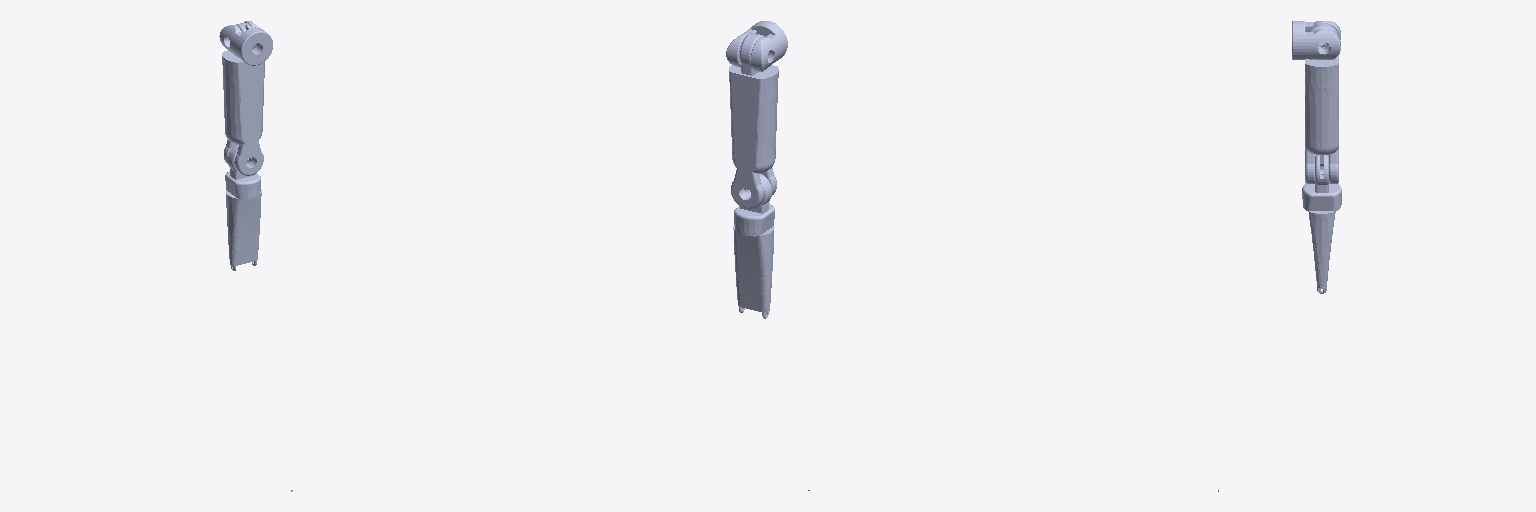
The robot description file, URDF, robot "pluto":
<?xml version="1.0" ?>
<!-- =================================================================================== -->
<!-- |    This document was autogenerated by xacro from pluto2.xacro                   | -->
<!-- |    EDITING THIS FILE BY HAND IS NOT RECOMMENDED                                 | -->
<!-- =================================================================================== -->
<robot name="pluto">
  <link name="base_footprint">
    <inertial>
      <mass value="10"/>
      <inertia ixx="1.6666666666666667e-06" ixy="0.0" ixz="0.0" iyy="1.6666666666666667e-06" iyz="0.0" izz="1.6666666666666667e-06"/>
    </inertial>
    <visual>
      <origin rpy="0 0 0" xyz="0 0 0"/>
      <geometry>
        <box size="0.001 0.001 0.001"/>
      </geometry>
    </visual>
  </link>
  <link name="base_link">
    <inertial>
      <mass value="50"/>
      <inertia ixx="2.1505333333333336" ixy="0.0" ixz="0.0" iyy="2.1505333333333336" iyz="0.0" izz="2.1505333333333336"/>
    </inertial>
    <visual>
      <origin rpy="0 0 0" xyz="-0.015 -0.00275 0"/>
      <geometry>
        <!--box size="${base_length} ${base_width} ${base_height}" /-->
        <mesh filename="package://pluto/models/Chassis.dae" scale="1 1 1"/>
      </geometry>
    </visual>
    <collision>
      <origin rpy="0 0 0" xyz="-0.015 -0.00275 0"/>
      <geometry>
        <!--box size="${base_length} ${base_width} ${base_height}"/-->
        <mesh filename="package://pluto/models/Chassis.dae" scale="1 1 1"/>
      </geometry>
    </collision>
  </link>
  <joint name="base_link_joint" type="fixed">
    <origin rpy="0 0 0" xyz="0 0 0"/>
    <parent link="base_footprint"/>
    <child link="base_link"/>
  </joint>
  <link name="torso">
    <inertial>
      <mass value="20"/>
      <inertia ixx="0.4010744666666667" ixy="0.0" ixz="0.0" iyy="0.45591306666666664" iyz="0.0" izz="0.16021473333333336"/>
    </inertial>
    <visual>
      <origin rpy="0 0 0" xyz="0 0 0.32"/>
      <geometry>
        <mesh filename="package://pluto/models/Torso.dae" scale="1 1 1"/>
      </geometry>
    </visual>
    <collision>
      <origin rpy="0 0 0" xyz="0 0 0.32"/>
      <geometry>
        <mesh filename="package://pluto/models/Torso.dae" scale="1 1 1"/>
      </geometry>
    </collision>
  </link>
  <joint name="torso_joint" type="revolute">
    <origin rpy="0 0 0" xyz="0 0 0"/>
    <axis rpy="0 0 0" xyz="0 0 1"/>
    <parent link="base_link"/>
    <child link="torso"/>
    <limit effort="1.0" lower="-1.57079" upper="1.57079" velocity="1.0"/>
  </joint>
  <link name="left_shoulder">
    <visual>
      <origin rpy="3.141592653589793 0 0" xyz="0 0 0"/>
      <geometry>
        <mesh filename="package://pluto/models/Shoulder.dae" scale="1 1 1"/>
      </geometry>
    </visual>
    <collision>
      <origin rpy="3.141592653589793 0 0" xyz="0 0 0"/>
      <geometry>
        <mesh filename="package://pluto/models/Shoulder.dae" scale="1 1 1"/>
      </geometry>
      <surface>
        <friction>
          <ode>
            <mu>0.01</mu>
            <mu2>0.01</mu2>
          </ode>
        </friction>
      </surface>
    </collision>
    <inertial>
      <mass value="3"/>
      <inertia ixx="0.0030645100000000008" ixy="0" ixz="0" iyy="0.0030645100000000008" iyz="0" izz="0.0021774150000000003"/>
    </inertial>
  </link>
  <joint name="left_shoulder_joint" type="revolute">
    <axis rpy="0 0 0" xyz="0 1 0"/>
    <parent link="torso"/>
    <child link="left_shoulder"/>
    <origin rpy="0 0 0" xyz="0 0.055 0.372"/>
    <limit effort="30.0" lower="-3.14159" upper="0" velocity="1.0"/>
  </joint>
  <link name="left_upper_arm_bottom">
    <visual>
      <origin rpy="0 0 3.141592653589793" xyz="0 0 0"/>
      <geometry>
        <mesh filename="package://pluto/models/UpperArmBottom.dae" scale="1 1 1"/>
      </geometry>
    </visual>
    <collision>
      <origin rpy="3.141592653589793 0 0" xyz="0 0 0"/>
      <geometry>
        <mesh filename="package://pluto/models/UpperArmBottom.dae" scale="1 1 1"/>
      </geometry>
      <surface>
        <friction>
          <ode>
            <mu>0.01</mu>
            <mu2>0.01</mu2>
          </ode>
        </friction>
      </surface>
    </collision>
    <inertial>
      <mass value="0.5"/>
      <inertia ixx="0.002814174479166667" ixy="0" ixz="0" iyy="0.002814174479166667" iyz="0" izz="0.000252015625"/>
    </inertial>
  </link>
  <joint name="left_upper_arm_bottom_joint" type="revolute">
    <axis rpy="0 0 0" xyz="1 0 0"/>
    <parent link="left_shoulder"/>
    <child link="left_upper_arm_bottom"/>
    <origin rpy="0 0 0" xyz="0 0.0225 0"/>
    <limit effort="30.0" lower="0" upper="3.14159" velocity="1.0"/>
  </joint>
  <link name="left_upper_arm_top">
    <visual>
      <origin rpy="0 0 3.141592653589793" xyz="0 0 0"/>
      <geometry>
        <mesh filename="package://pluto/models/UpperArmTop.dae" scale="1 1 1"/>
      </geometry>
    </visual>
    <collision>
      <origin rpy="3.141592653589793 0 0" xyz="0 0 0"/>
      <geometry>
        <mesh filename="package://pluto/models/UpperArmTop.dae" scale="1 1 1"/>
      </geometry>
      <surface>
        <friction>
          <ode>
            <mu>0.01</mu>
            <mu2>0.01</mu2>
          </ode>
        </friction>
      </surface>
    </collision>
    <inertial>
      <mass value="4"/>
      <inertia ixx="0.022513395833333335" ixy="0" ixz="0" iyy="0.022513395833333335" iyz="0" izz="0.002016125"/>
    </inertial>
  </link>
  <joint name="left_upper_arm_top_joint" type="revolute">
    <axis rpy="0 0 0" xyz="0 0 1"/>
    <parent link="left_upper_arm_bottom"/>
    <child link="left_upper_arm_top"/>
    <origin rpy="0 0 0" xyz="0 0 -0.03125"/>
    <limit effort="1.0" lower="-3.14159" upper="0" velocity="1.0"/>
  </joint>
  <link name="left_forearm_bottom">
    <visual>
      <origin rpy="3.141592653589793 0 0" xyz="0 0 0"/>
      <geometry>
        <mesh filename="package://pluto/models/ForearmBottom.dae" scale="1 1 1"/>
      </geometry>
    </visual>
    <collision>
      <origin rpy="3.141592653589793 0 0" xyz="0 0 0"/>
      <geometry>
        <mesh filename="package://pluto/models/ForearmBottom.dae" scale="1 1 1"/>
      </geometry>
      <!--surface>
         <friction>
          <ode>
            <mu>1000.0</mu>
            <mu2>1000.0</mu2>
          </ode>
         </friction>
       </surface-->
    </collision>
    <inertial>
      <mass value="0.5"/>
      <inertia ixx="0.0005561144791666667" ixy="0" ixz="0" iyy="0.0005561144791666667" iyz="0" izz="0.000252015625"/>
    </inertial>
  </link>
  <joint name="left_forearm_bottom_joint" type="revolute">
    <axis rpy="0 0 0" xyz="0 1 0"/>
    <parent link="left_upper_arm_top"/>
    <child link="left_forearm_bottom"/>
    <origin rpy="0 1.5707963267948966 0" xyz="0 0 -0.07625"/>
    <limit effort="10.0" lower="-3.14159" upper="0" velocity="1.0"/>
    <dyanamics damping="10.0" friction="10.0"/>
  </joint>
  <link name="left_forearm_top">
    <visual>
      <origin rpy="3.141592653589793 0 0" xyz="0 0 0"/>
      <geometry>
        <mesh filename="package://pluto/models/ForearmTop.dae" scale="1 1 1"/>
      </geometry>
    </visual>
    <collision>
      <origin rpy="3.141592653589793 0 0" xyz="0 0 0"/>
      <geometry>
        <mesh filename="package://pluto/models/ForearmTop.dae" scale="1 1 1"/>
      </geometry>
      <!--surface>
         <friction>
          <ode>
            <mu>1.0</mu>
            <mu2>1.0</mu2>
          </ode>
         </friction>
       </surface-->
    </collision>
    <inertial>
      <mass value="0.4"/>
      <inertia ixx="0.0004448915833333333" ixy="0" ixz="0" iyy="0.0004448915833333333" iyz="0" izz="0.00020161250000000003"/>
    </inertial>
  </link>
  <joint name="left_forearm_top_joint" type="revolute">
    <axis rpy="0 0 0" xyz="1 0 0"/>
    <parent link="left_forearm_bottom"/>
    <child link="left_forearm_top"/>
    <origin rpy="0 0 0" xyz="0.029 0 0"/>
    <limit effort="1.0" lower="-3.14159" upper="0" velocity="1.0"/>
  </joint>
</robot>

--- What the picture shows (computed from the rendered views, not written in the file) ---
3 views of the same robot in one strip: view 1: azimuth 30°, elevation 25°; view 2: azimuth 150°, elevation 25°; view 3: azimuth 270°, elevation 25° (orthographic).
Robot: pluto — 8 links, 7 joints (6 revolute, 1 fixed); root link base_footprint; default pose: all joints at 0.
Links seen in each view (by area): view 1: left_upper_arm_top, left_forearm_top, left_shoulder, left_forearm_bottom, left_upper_arm_bottom; view 2: left_upper_arm_top, left_forearm_top, left_upper_arm_bottom, left_shoulder, left_forearm_bottom; view 3: left_upper_arm_top, left_shoulder, left_forearm_bottom, left_forearm_top, left_upper_arm_bottom.
Boxes of the visible links, bbox=[...] form: left_upper_arm_top: bbox=[223, 75, 264, 175]; left_forearm_top: bbox=[226, 190, 261, 270]; left_shoulder: bbox=[219, 21, 272, 65]; left_forearm_bottom: bbox=[225, 145, 260, 199]; left_upper_arm_bottom: bbox=[222, 23, 264, 81]; left_upper_arm_top: bbox=[730, 94, 777, 208]; left_forearm_top: bbox=[733, 225, 774, 318]; left_upper_arm_bottom: bbox=[729, 33, 778, 101]; left_shoulder: bbox=[726, 21, 787, 71]; left_forearm_bottom: bbox=[734, 174, 774, 236]; left_upper_arm_top: bbox=[1305, 85, 1338, 183]; left_shoulder: bbox=[1292, 21, 1340, 59]; left_forearm_bottom: bbox=[1302, 155, 1341, 210]; left_forearm_top: bbox=[1308, 211, 1335, 293]; left_upper_arm_bottom: bbox=[1305, 23, 1338, 87].
Bounding box of the posed robot: 0.0349 × 0.0929 × 0.3875 m (x, y, z).
5 mesh visuals loaded from 7 distinct referenced files (5 Collada DAE); not drawn: 2 (reference not matched to a file when rendering).
